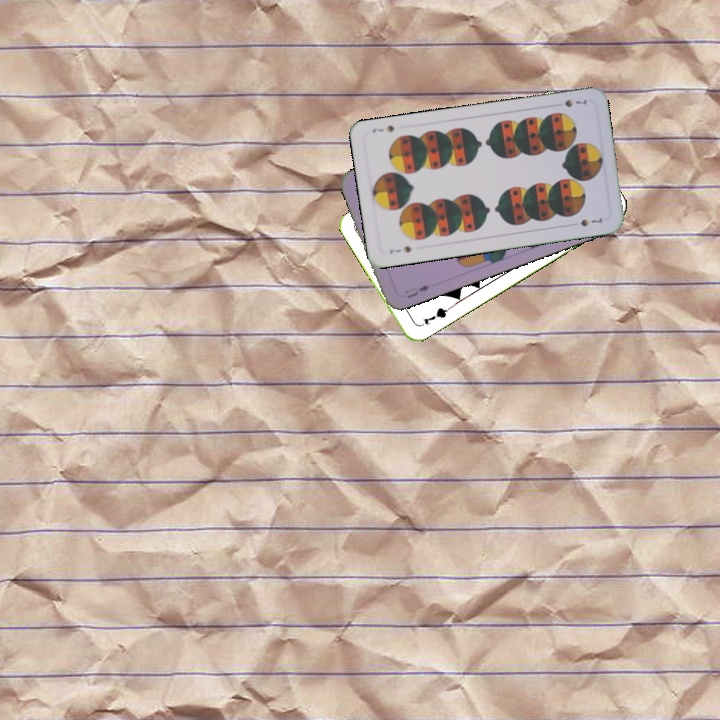EU: (401, 281, 432, 301)
G7: (415, 303, 452, 329)
S7: (560, 95, 590, 110), (386, 242, 414, 256)
